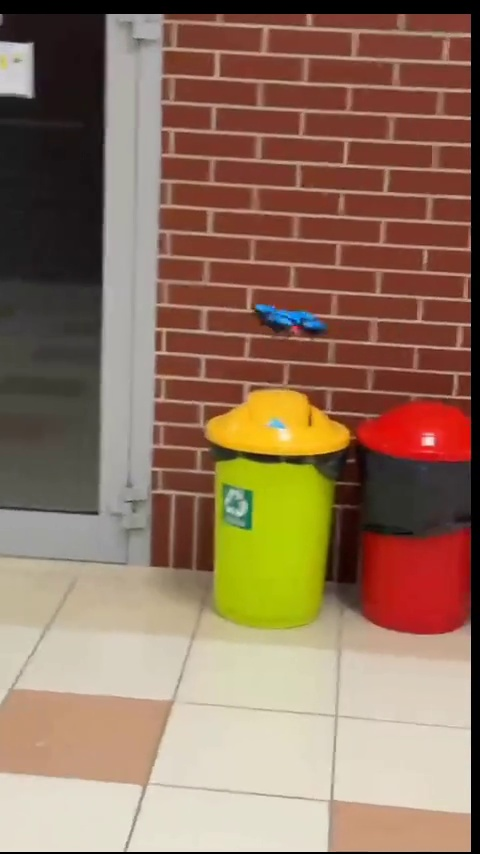drone: (248, 299, 339, 338)
